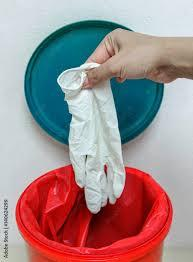Glove: (57, 63, 124, 212)
